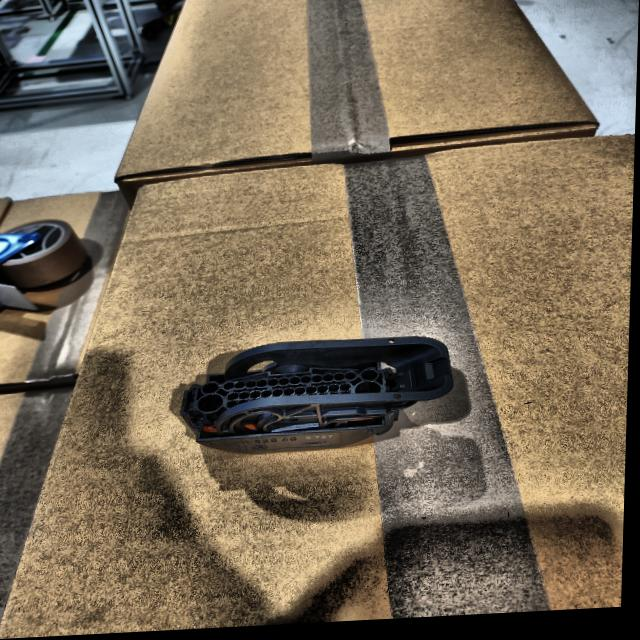P38: (183, 342, 455, 456)
